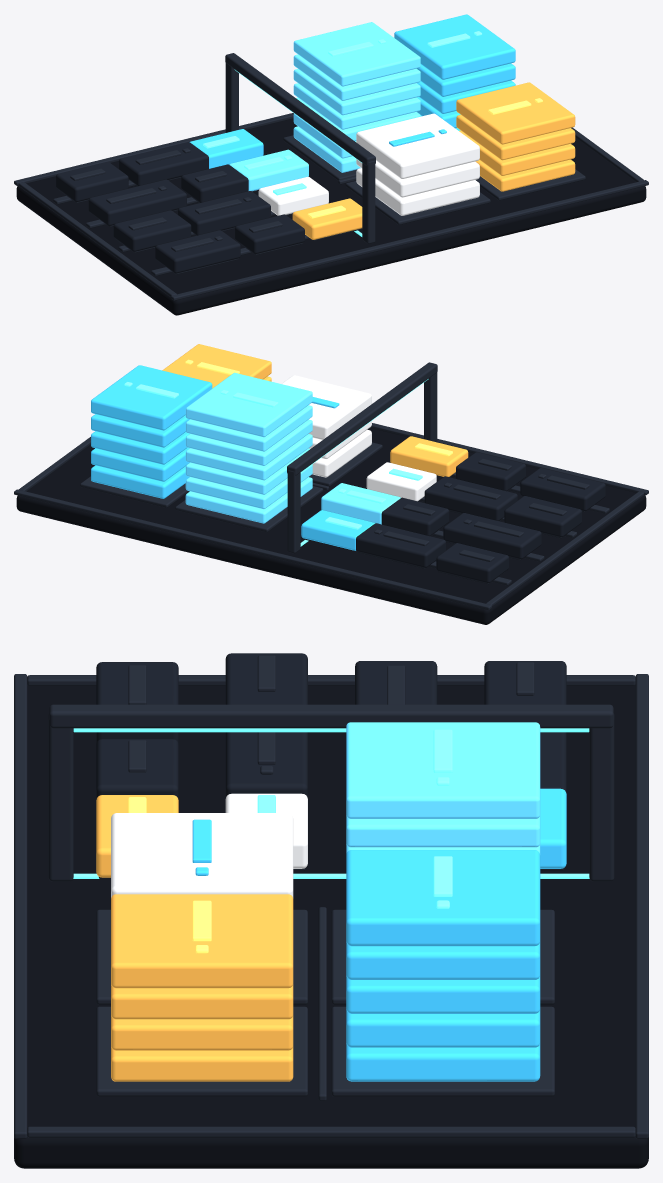
Rendered from hero.glb.
The picture shows the model from 3 angles, top to bottom: view 1: azimuth 30°, elevation 25°; view 2: azimuth 150°, elevation 25°; view 3: azimuth 270°, elevation 25°; orthographic projection. The views are drawn at different scales.
Parts seen in each view (by area): view 1: object 1, stack_0, stack_3, stack_2, stack_1, parse_gate, object 2, stream_3, stream_7, stream_1, stream_9, stream_6 (+13 smaller); view 2: object 1, stack_0, stack_1, parse_gate, stack_2, object 3, stream_3, stream_1, stack_3, stream_7, stream_9, stream_6 (+13 smaller); view 3: object 1, stack_1, stack_3, stack_0, parse_gate, stack_2, object 5, object 2, object 3, object 28, object 31, stream_7 (+14 smaller).
Part boxes in pixels (bbox=[...]): object 1: bbox=[16, 118, 646, 315]; stack_0: bbox=[293, 22, 420, 172]; stack_3: bbox=[456, 82, 575, 191]; stack_2: bbox=[356, 113, 479, 215]; stack_1: bbox=[394, 14, 515, 130]; parse_gate: bbox=[225, 53, 375, 243]; object 2: bbox=[171, 180, 648, 300]; stream_3: bbox=[88, 179, 186, 226]; stream_7: bbox=[178, 191, 270, 235]; stream_1: bbox=[119, 142, 208, 186]; stream_9: bbox=[155, 230, 240, 274]; stream_6: bbox=[113, 210, 191, 252]; object 1: bbox=[16, 428, 646, 624]; stack_0: bbox=[185, 372, 312, 523]; stack_1: bbox=[91, 365, 212, 498]; parse_gate: bbox=[287, 362, 437, 553]; stack_2: bbox=[282, 375, 371, 477]; object 3: bbox=[14, 489, 491, 610]; stream_3: bbox=[443, 513, 541, 560]; stream_1: bbox=[356, 523, 445, 568]; stack_3: bbox=[162, 344, 271, 388]; stream_7: bbox=[424, 476, 517, 520]; stream_9: bbox=[520, 468, 605, 512]; stream_6: bbox=[504, 496, 581, 538]; object 1: bbox=[14, 685, 648, 1168]; stack_1: bbox=[346, 850, 540, 1081]; stack_3: bbox=[111, 894, 293, 1081]; stack_0: bbox=[346, 722, 540, 854]; parse_gate: bbox=[48, 704, 614, 881]; stack_2: bbox=[111, 813, 293, 898]; object 5: bbox=[27, 1126, 635, 1137]; object 2: bbox=[14, 674, 27, 1138]; object 3: bbox=[635, 674, 648, 1138]; object 28: bbox=[331, 1006, 554, 1096]; object 31: bbox=[96, 1006, 307, 1096]; stream_7: bbox=[225, 732, 307, 798].
Size of the model in its own units: 3.7 by 0.9019 by 2.16.
